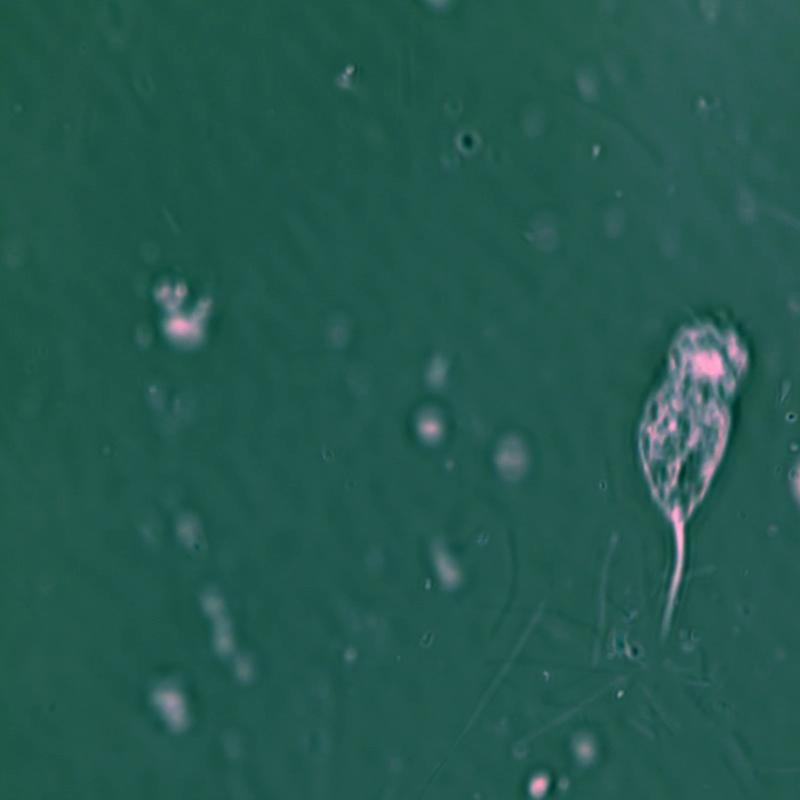depth:20: (627, 291, 776, 654)
